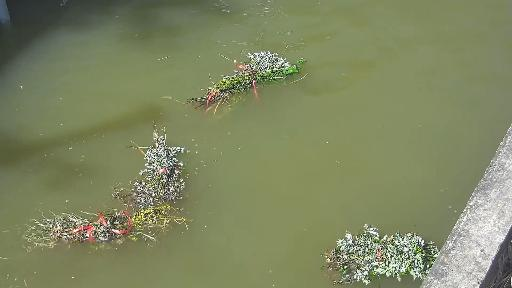twig: (180, 42, 310, 123), (19, 200, 194, 249), (322, 220, 442, 280), (121, 128, 194, 205)
